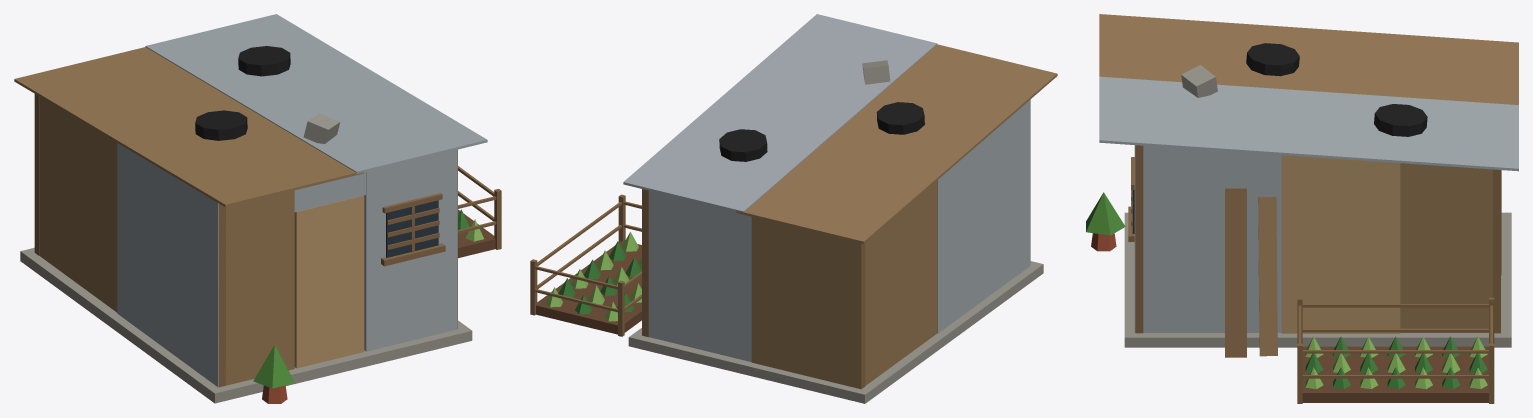
Rendered from BAY_I_TinShack_O.glb.
3 views of the same model, side by side, from view 1: azimuth 30°, elevation 25°; view 2: azimuth 150°, elevation 25°; view 3: azimuth 270°, elevation 25° (orthographic). The views are drawn at different scales.
Visible parts, largest first — view 1: BAY_I_TinShack_O; view 2: BAY_I_TinShack_O; view 3: BAY_I_TinShack_O.
Boxes of the visible parts, box(x1,y1,x2,y2) form: BAY_I_TinShack_O: box(14, 14, 501, 403); BAY_I_TinShack_O: box(530, 14, 1057, 403); BAY_I_TinShack_O: box(1086, 14, 1518, 403).
Bounding box in the file's own units: 4.73 × 2.68 × 4.74.
Materials: 1 (1 with a texture image).
